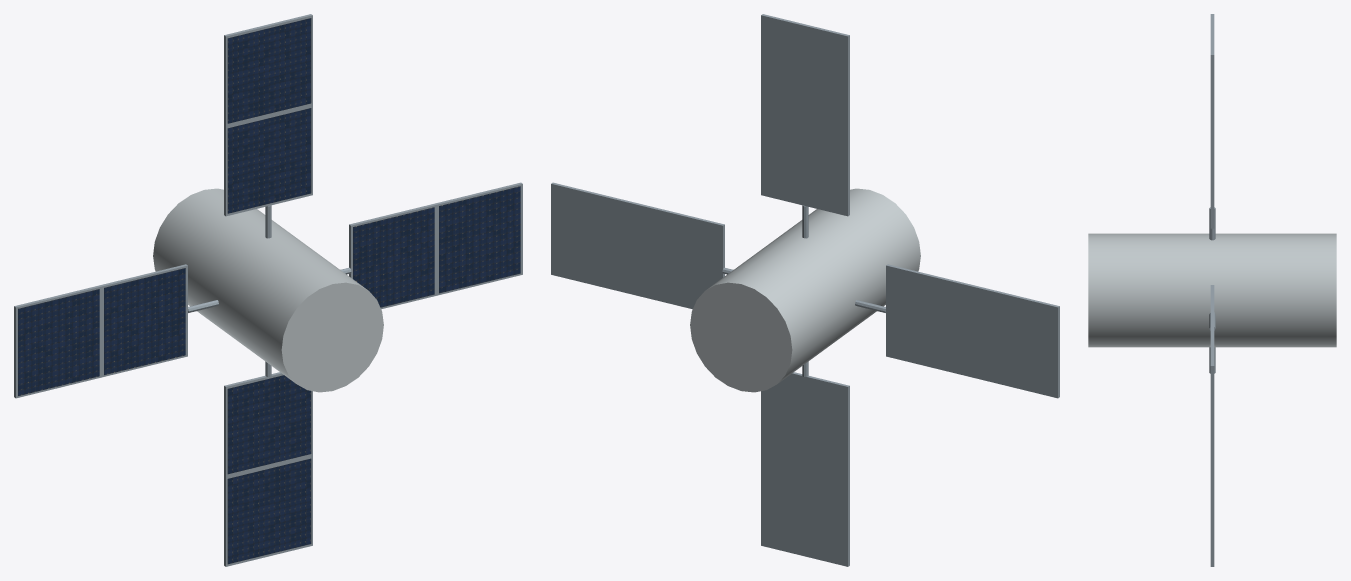
File: ref-atv-32686.glb
3 views of the same model, side by side, from view 1: azimuth 30°, elevation 25°; view 2: azimuth 150°, elevation 25°; view 3: azimuth 270°, elevation 25° (orthographic). The views are drawn at different scales.
Visible parts, largest first — view 1: Photovoltaic laminates (×8), Spacecraft body, Array frame (×8); view 2: Array frame (×8), Spacecraft body; view 3: Spacecraft body, Array frame (×4).
Part boxes in pixels (box(x1,y1,x2,y2)): Photovoltaic laminates (×8): box(18, 18, 520, 564); Spacecraft body: box(153, 188, 383, 392); Array frame (×8): box(14, 14, 522, 566); Array frame (×8): box(551, 14, 1059, 566); Spacecraft body: box(690, 188, 920, 392); Spacecraft body: box(1088, 233, 1336, 347); Array frame (×4): box(1210, 14, 1214, 566).
Size of the model in its own units: 22.3 by 22.3 by 9.8.
Materials: 3 (1 with a texture image).
